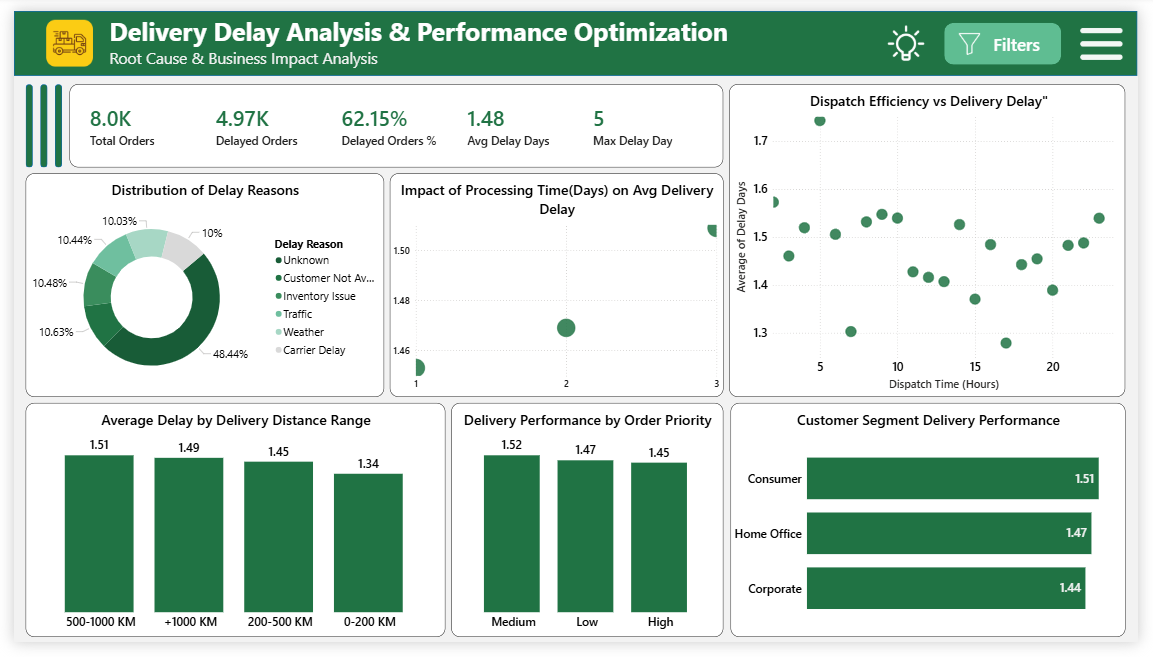

Layout of this report page (visuals, bound fields, positions):
{"tool":"powerbi","page":{"name":"Root Cause & Business Impact Analysis ","canvas":[1920,1080],"ordinal":1},"visuals":[{"type":"shape","title":"Title Bg Box","box":[0,0,1920,110.9],"z":0},{"type":"shape","box":[1590,20,200,72],"z":0,"group":"g2"},{"type":"shape","box":[20,125,12.1,142.5],"z":0,"group":"g1"},{"type":"textbox","title":"Title Box","box":[150,0,1155,111.7],"z":1000},{"type":"image","box":[1613.8,38,37.6,38],"z":1000,"group":"g2"},{"type":"shape","box":[46.2,125,12.1,142.5],"z":1000,"group":"g1"},{"type":"image","title":"Logo ","box":[56,16,80,80],"z":2000},{"type":"shape","box":[1669.2,34,105.9,44],"z":2000,"group":"g2"},{"type":"shape","box":[70.4,125,12.1,142.5],"z":2000,"group":"g1"},{"type":"group","id":"g1","title":"KPI near Lines","box":[20,125,62.5,142.5],"z":3000},{"type":"donutChart","title":"Distribution of Delay Reasons","fields":{"Category":["delivery_performance_CLEANED_dataset.Delay Reason"],"Y":["CountNonNull(delivery_performance_CLEANED_dataset.Order ID)"]},"box":[20,277,612.5,382.5],"z":4000},{"type":"scatterChart","title":"Impact of Processing Time(Days) on Avg Delivery Delay","fields":{"Y":["Avg(delivery_performance_CLEANED_dataset.Delay Days)"],"X":["delivery_performance_CLEANED_dataset.Processing Time (Days)"]},"box":[642.5,277.5,570,382.5],"z":5000},{"type":"scatterChart","title":"Dispatch Efficiency vs Delivery Delay\"","fields":{"Y":["Avg(delivery_performance_CLEANED_dataset.Delay Days)"],"X":["delivery_performance_CLEANED_dataset.Dispatch Time (Hours)"]},"box":[1222.5,125,677,535],"z":6000},{"type":"columnChart","title":"Average Delay by Delivery Distance Range","fields":{"Category":["delivery_performance_CLEANED_dataset.Distance Category"],"Y":["Avg(delivery_performance_CLEANED_dataset.Delay Days)"]},"box":[20,670,717.5,400],"z":7000},{"type":"group","id":"g2","title":"Filter Btn Pg2","box":[1590,20,200,72],"z":8000},{"type":"clusteredColumnChart","title":"Delivery Performance by Order Priority","fields":{"Y":["Avg(delivery_performance_CLEANED_dataset.Delay Days)"],"Category":["delivery_performance_CLEANED_dataset.Order Priority"]},"box":[747.5,670,465,400],"z":9000},{"type":"barChart","title":"Customer Segment Delivery Performance","fields":{"Category":["delivery_performance_CLEANED_dataset.Customer Type"],"Y":["Avg(delivery_performance_CLEANED_dataset.Delay Days)"]},"box":[1225,670,675,400],"z":10000},{"type":"cardVisual","fields":{"Data":["Measures_.Total Orders","Measures_.Delayed Orders","Measures_.Delay %","Measures_.Avg Delay Days","Measures_.Max Delay Day"]},"box":[95,125,1117.5,142.5],"z":11000},{"type":"image","box":[1490,20,70,70],"z":13000},{"type":"image","title":"Menu Icon","box":[1822,20,72.5,72.5],"z":14000}]}

Visuals, with their boxes in screenshot pixels (x1, y1, x2, y2), scaled from the page's 1920x1080 canvas onto the 1153x657 screenshot:
"Title Bg Box" shape: bbox=[0, 0, 1152, 67]
shape: bbox=[955, 12, 1075, 56]
shape: bbox=[12, 76, 19, 163]
"Title Box" textbox: bbox=[90, 0, 784, 68]
image: bbox=[969, 23, 992, 46]
shape: bbox=[28, 76, 35, 163]
"Logo " image: bbox=[34, 10, 82, 58]
shape: bbox=[1002, 21, 1066, 47]
shape: bbox=[42, 76, 50, 163]
"KPI near Lines" group: bbox=[12, 76, 50, 163]
"Distribution of Delay Reasons" donutChart: bbox=[12, 169, 380, 401]
"Impact of Processing Time(Days) on Avg Delivery Delay" scatterChart: bbox=[386, 169, 728, 401]
"Dispatch Efficiency vs Delivery Delay"" scatterChart: bbox=[734, 76, 1141, 401]
"Average Delay by Delivery Distance Range" columnChart: bbox=[12, 408, 443, 651]
"Filter Btn Pg2" group: bbox=[955, 12, 1075, 56]
"Delivery Performance by Order Priority" clusteredColumnChart: bbox=[449, 408, 728, 651]
"Customer Segment Delivery Performance" barChart: bbox=[736, 408, 1141, 651]
cardVisual - Measures_.Total Orders x Measures_.Delayed Orders: bbox=[57, 76, 728, 163]
image: bbox=[895, 12, 937, 55]
"Menu Icon" image: bbox=[1094, 12, 1138, 56]
